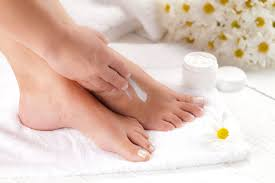nail: (87, 151, 100, 161), (207, 42, 218, 51), (154, 135, 164, 144), (242, 152, 256, 158), (140, 133, 149, 141), (182, 89, 191, 97), (203, 89, 213, 96), (121, 166, 129, 174), (218, 83, 226, 91), (222, 74, 231, 81), (144, 73, 153, 80), (107, 165, 114, 173), (231, 160, 242, 165), (98, 163, 105, 170), (208, 153, 216, 159), (138, 165, 144, 172), (220, 157, 228, 161), (197, 145, 203, 150)
